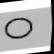no answer: (1, 13, 39, 45)
